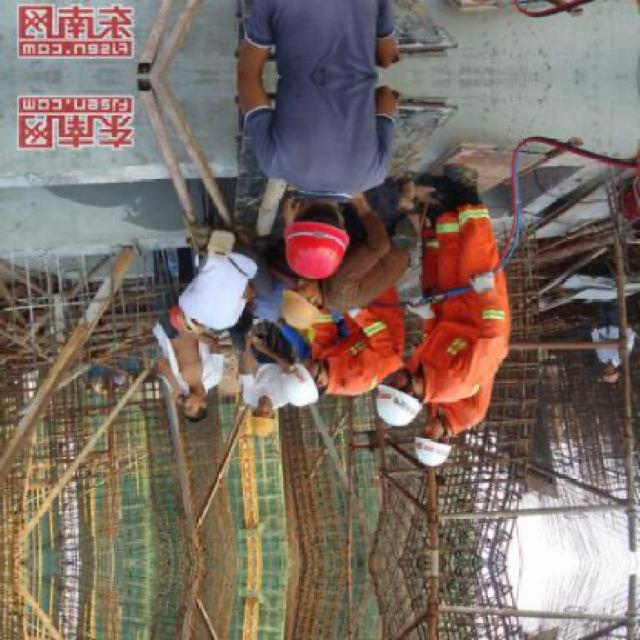con casco: (300, 201, 374, 293), (405, 410, 489, 490), (300, 198, 366, 282), (251, 343, 322, 410), (273, 270, 332, 339), (373, 379, 436, 437), (223, 395, 272, 451), (258, 412, 270, 418)
